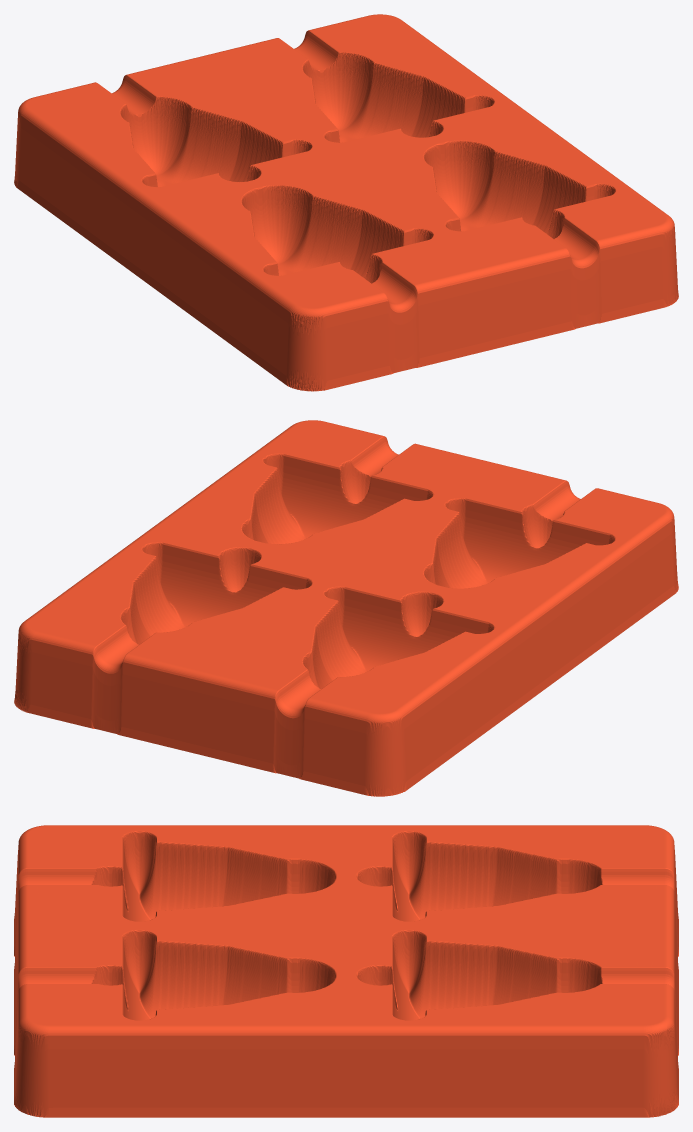
File: mold.glb
3 views of the same model, one above another, from view 1: azimuth 30°, elevation 25°; view 2: azimuth 150°, elevation 25°; view 3: azimuth 270°, elevation 25° (orthographic). The views are drawn at different scales.
Visible parts, largest first — view 1: geometry_0; view 2: geometry_0; view 3: geometry_0.
Boxes of the visible parts, bbox=[...] form: geometry_0: bbox=[14, 14, 678, 391]; geometry_0: bbox=[14, 420, 678, 796]; geometry_0: bbox=[14, 825, 678, 1117].
Size of the model in its own units: 0.1286 by 0.0245 by 0.171.
